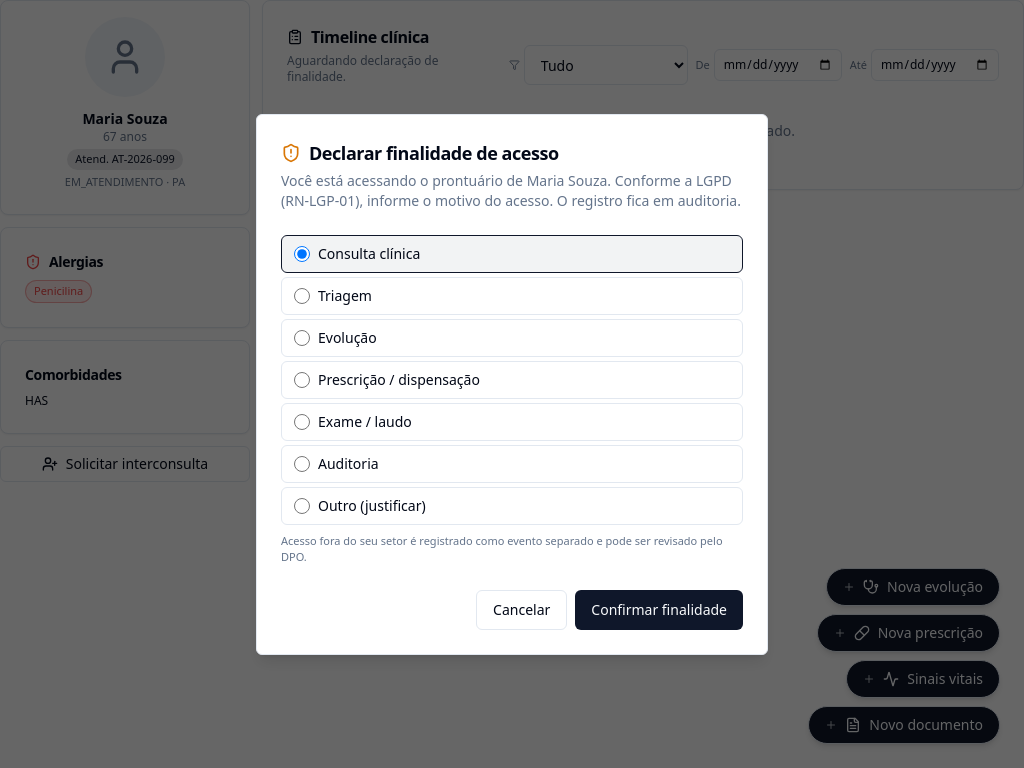
it: <PepPage /> › confirma finalidade e libera a timeline
Click the button "Confirmar finalidade" at coordinates (659, 610), box [575,590,743,630]
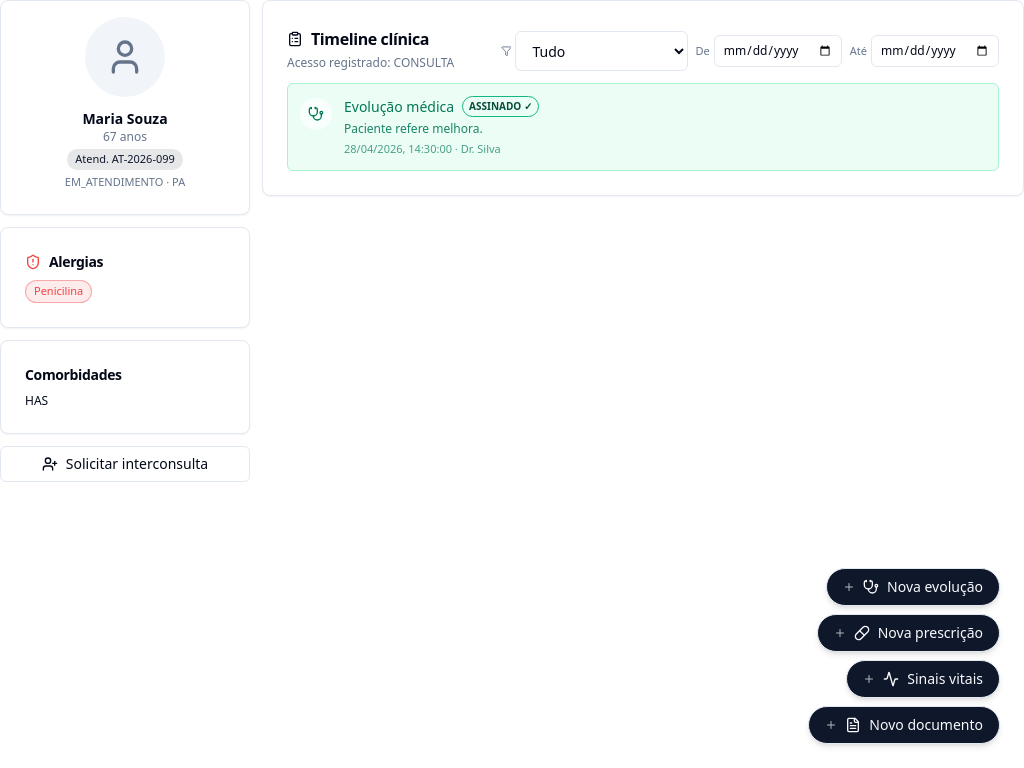
Result: the text "Evolução médica" is shown at [344,96,454,116]
